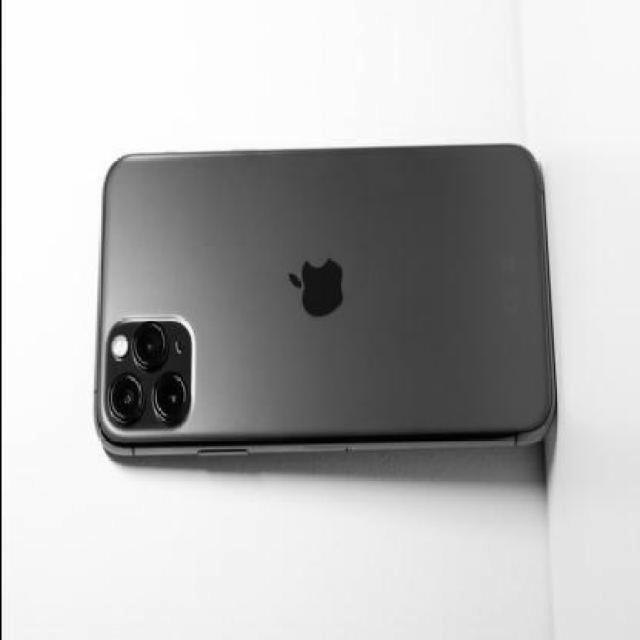fake: (90, 146, 544, 457)
